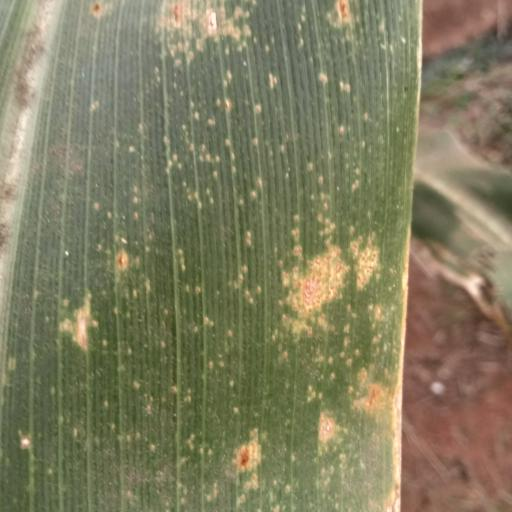Corn_Rust: (0, 0, 432, 512)
